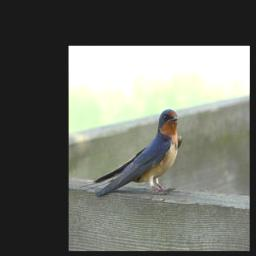Swallow: (78, 107, 183, 199)
